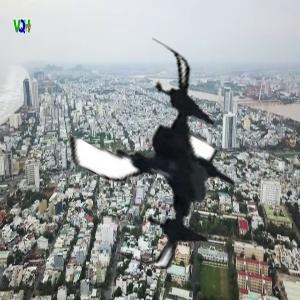drone: (59, 58, 267, 266)
